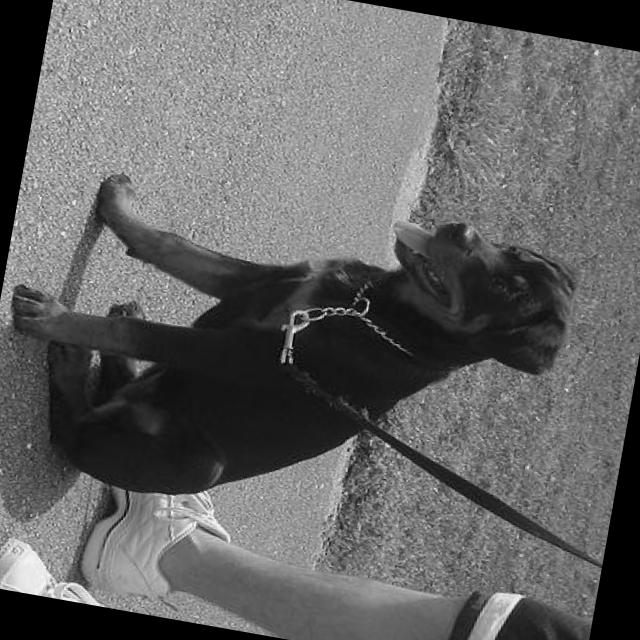sitting: (0, 135, 593, 569)
